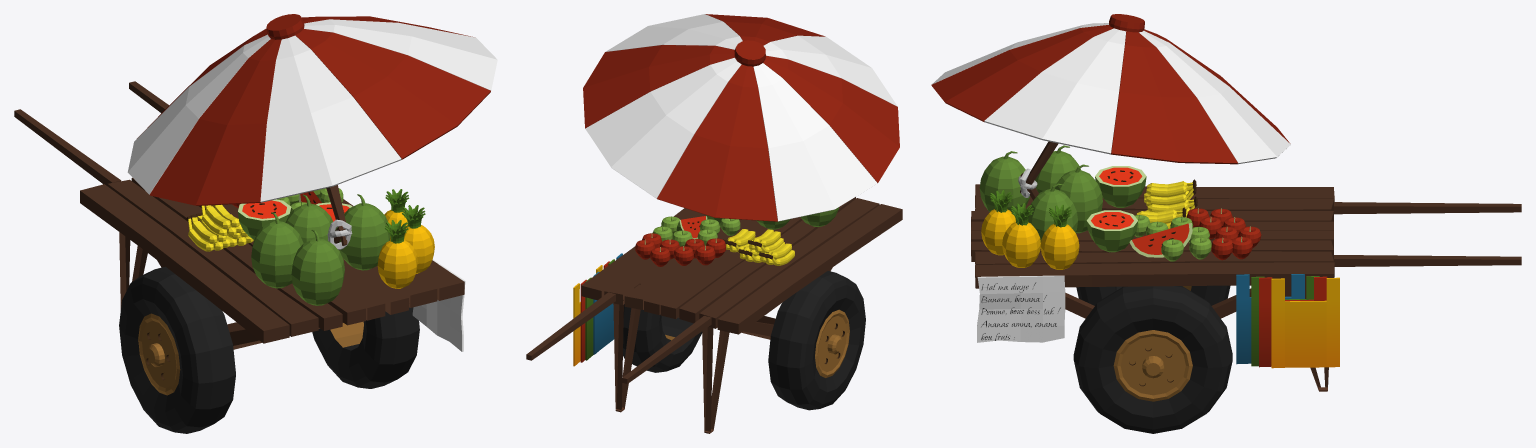
The model's file is fruit_cart.glb.
3 renders of one model, left to right at view 1: azimuth 30°, elevation 25°; view 2: azimuth 150°, elevation 25°; view 3: azimuth 270°, elevation 25°, orthographic. The views are drawn at different scales.
Parts seen in each view (by area): view 1: Pare soleil, Chariot, Pneu droite, Pneu gauche, Pasteque.002, Pasteque.003, Pasteque, Ananas, Affiche, Pasteque ouverte.001, Ananas.001, Pasteque.001 (+3 smaller); view 2: Pare soleil, Chariot, Pneu droite, Pneu gauche, Sachets plastique, Bannane lot.003, Bannane lot.002, Bannane lot, Pasteque.003, object 14; view 3: Pare soleil, Chariot, Pneu gauche, Sachets plastique, Affiche, Pasteque.002, Ananas.001, Ananas.002, Pasteque ouverte, Pasteque.001, Pasteque ouverte.001, Pasteque (+5 smaller).
Part boxes in pixels (left/top/right/bottom): Pare soleil: left=127, top=14, right=497, bottom=249; Chariot: left=14, top=81, right=464, bottom=349; Pneu droite: left=119, top=266, right=235, bottom=433; Pneu gauche: left=312, top=307, right=419, bottom=388; Pasteque.002: left=291, top=229, right=344, bottom=305; Pasteque.003: left=251, top=212, right=303, bottom=288; Pasteque: left=339, top=194, right=390, bottom=270; Ananas: left=377, top=220, right=417, bottom=288; Affiche: left=412, top=259, right=465, bottom=351; Pasteque ouverte.001: left=238, top=199, right=291, bottom=239; Ananas.001: left=402, top=205, right=434, bottom=273; Pasteque.001: left=285, top=194, right=332, bottom=243; Pare soleil: left=583, top=14, right=899, bottom=221; Chariot: left=526, top=197, right=902, bottom=433; Pneu droite: left=768, top=271, right=865, bottom=410; Pneu gauche: left=623, top=304, right=702, bottom=372; Sachets plastique: left=573, top=253, right=622, bottom=366; Bannane lot.003: left=747, top=229, right=783, bottom=253; Bannane lot.002: left=759, top=242, right=794, bottom=265; Bannane lot: left=723, top=229, right=755, bottom=252; Pasteque.003: left=800, top=207, right=838, bottom=227; object 14: left=676, top=216, right=707, bottom=238; Pare soleil: left=931, top=14, right=1290, bottom=200; Chariot: left=971, top=184, right=1521, bottom=391; Pneu gauche: left=1073, top=286, right=1232, bottom=433; Sachets plastique: left=1236, top=274, right=1339, bottom=368; Affiche: left=977, top=275, right=1065, bottom=342; Pasteque.002: left=979, top=151, right=1030, bottom=212; Ananas.001: left=1002, top=203, right=1040, bottom=267; Ananas.002: left=1040, top=205, right=1079, bottom=269; Pasteque ouverte: left=1086, top=210, right=1137, bottom=252; Pasteque.001: left=1055, top=164, right=1102, bottom=233; Pasteque ouverte.001: left=1095, top=166, right=1146, bottom=207; Pasteque: left=1028, top=183, right=1077, bottom=242.
Bounding box in the file's own units: 1.96 × 2.27 × 3.25.
2 materials, 2 textured.
